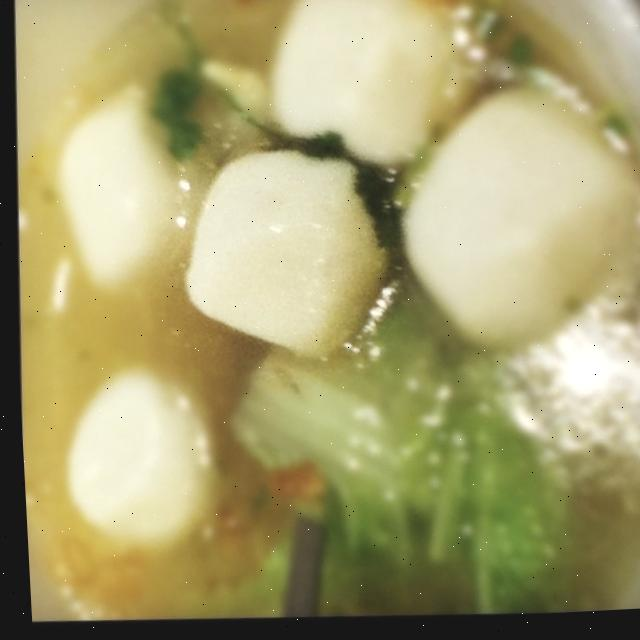熟制海鲜: (3, 0, 640, 618)
